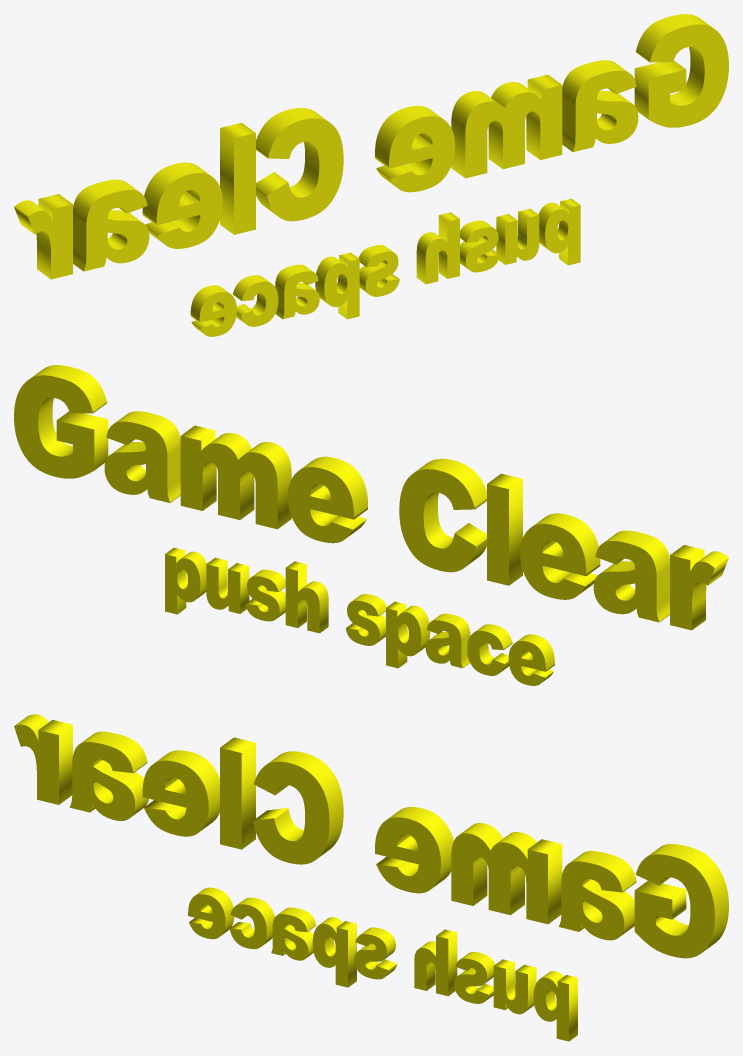
File: GameClear.obj
3 views of the same model, one above another, from view 1: azimuth 30°, elevation 25°; view 2: azimuth 150°, elevation 25°; view 3: azimuth 330°, elevation 25° (orthographic).
Parts seen in each view (by area): view 1: テキスト.001; view 2: テキスト.001; view 3: テキスト.001.
Boxes of the visible parts, x1=… form: テキスト.001: x1=14, y1=14, x2=728, y2=336; テキスト.001: x1=14, y1=365, x2=728, y2=685; テキスト.001: x1=14, y1=714, x2=728, y2=1041.
Size of the model in its own units: 6.09 by 1.76 by 0.2126.
